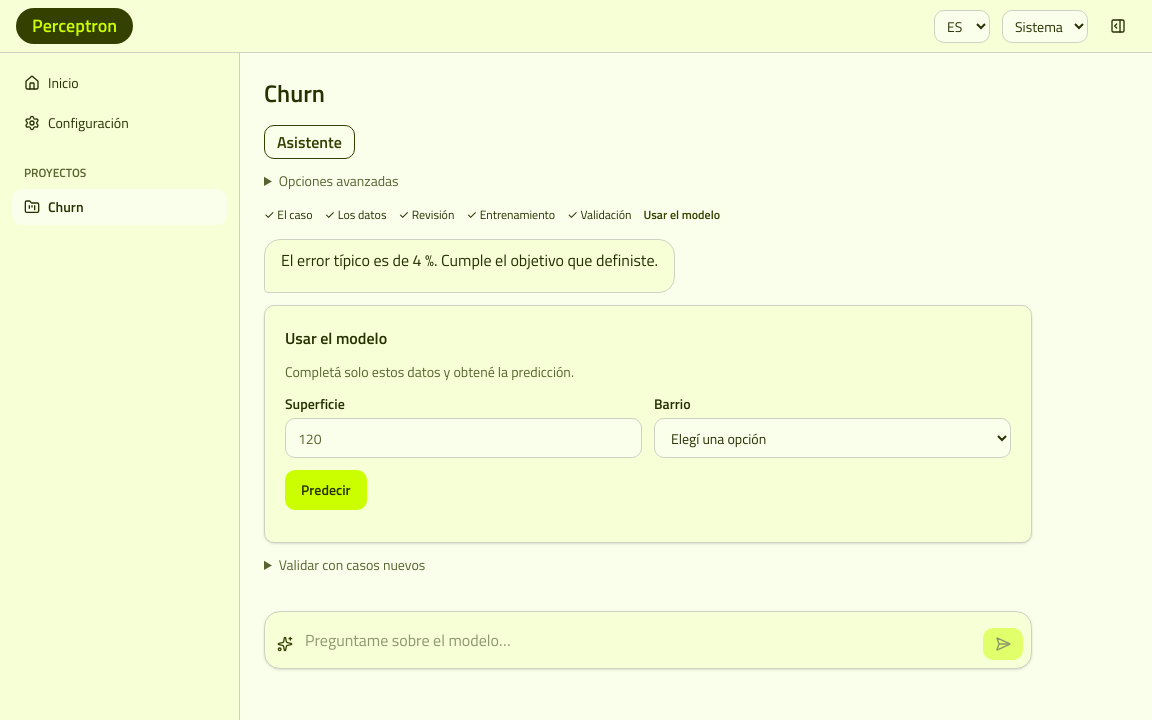
Test: uso: pide solo los campos que el modelo necesita y predice con el run
Expected: the heading "Usar el modelo" is shown, [285,326,387,350]
Type "90" into the number field labelled "Superficie" at (464, 438), box [285,418,642,458]
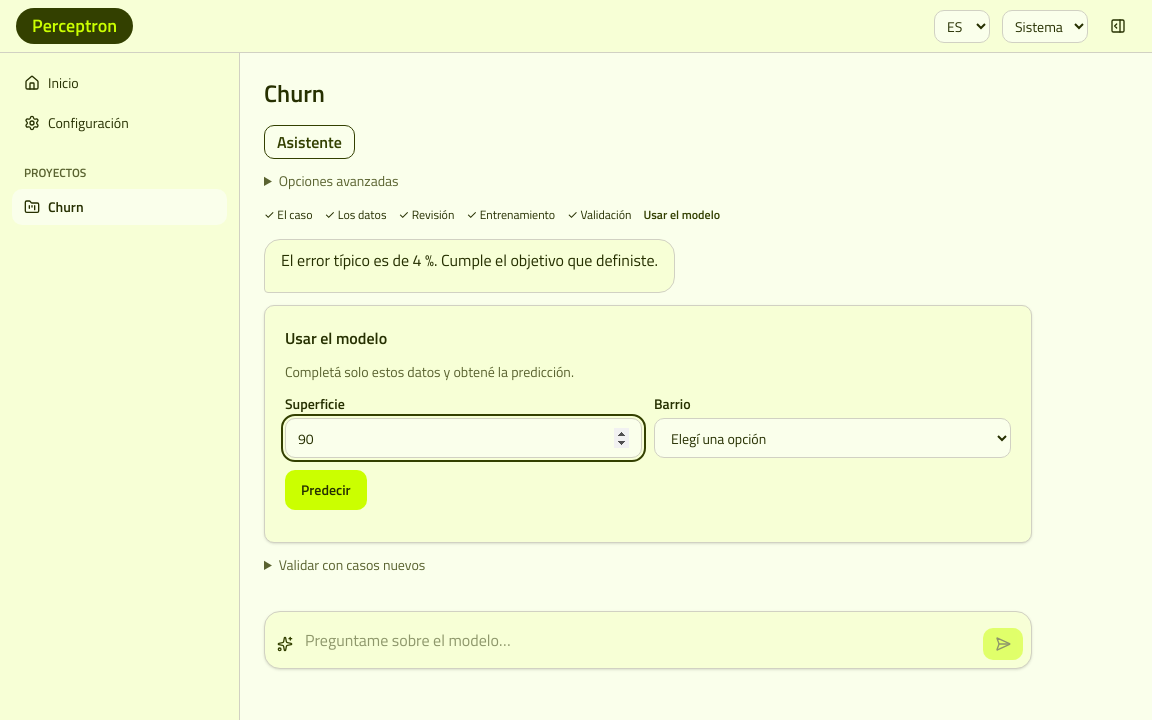
Click the button "Predecir" at (326, 490), box [285,470,367,510]
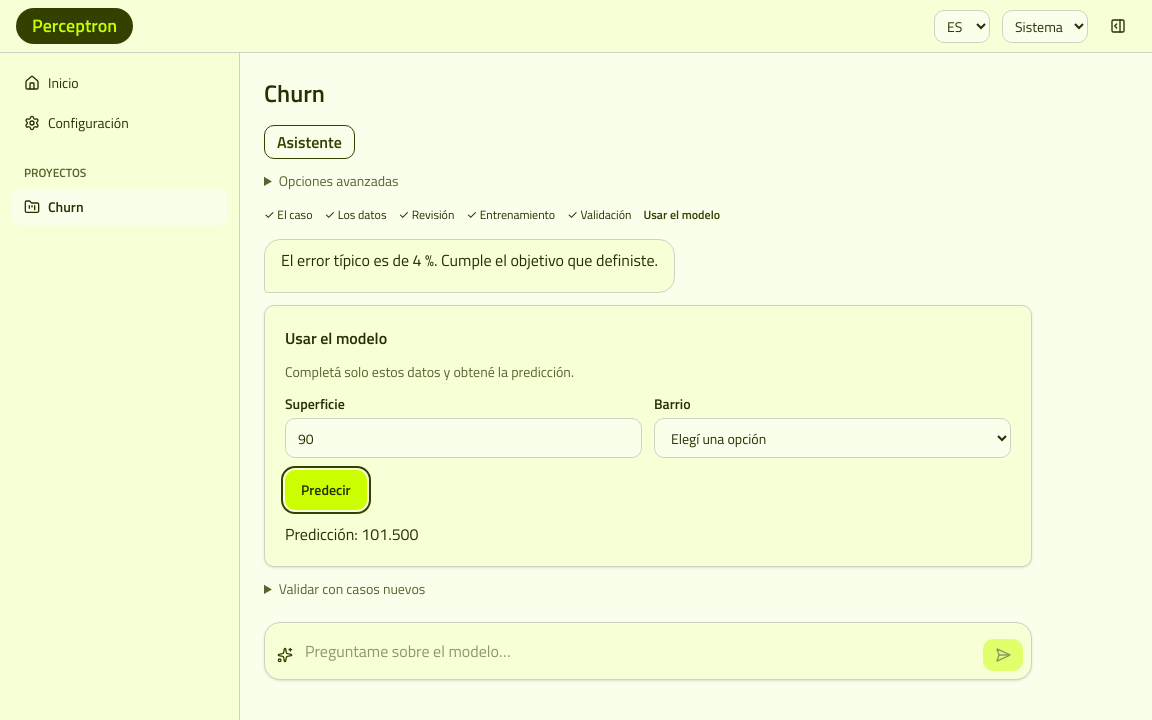
Expected: the text "Predicción: 101.500" is shown, [285,522,418,546]
